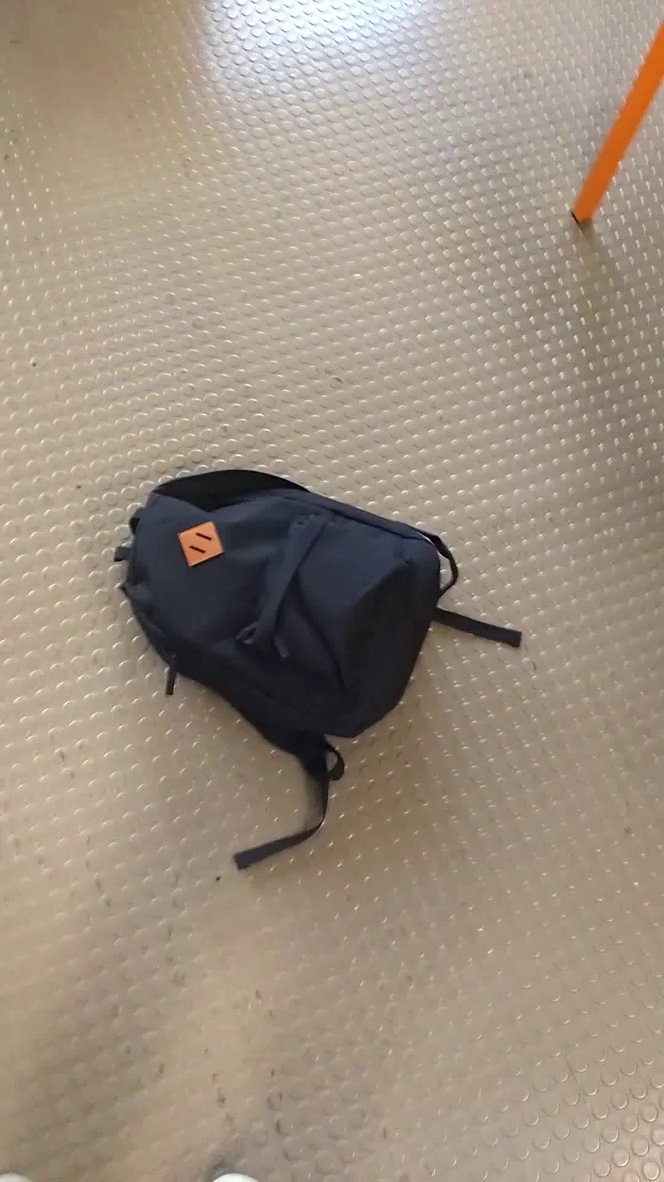bag: (108, 461, 539, 881)
